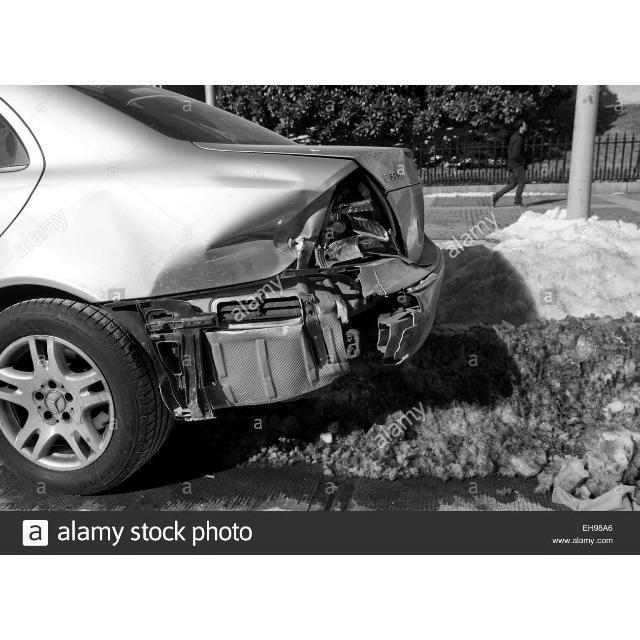quaterpanel-dent: (1, 131, 312, 359)
